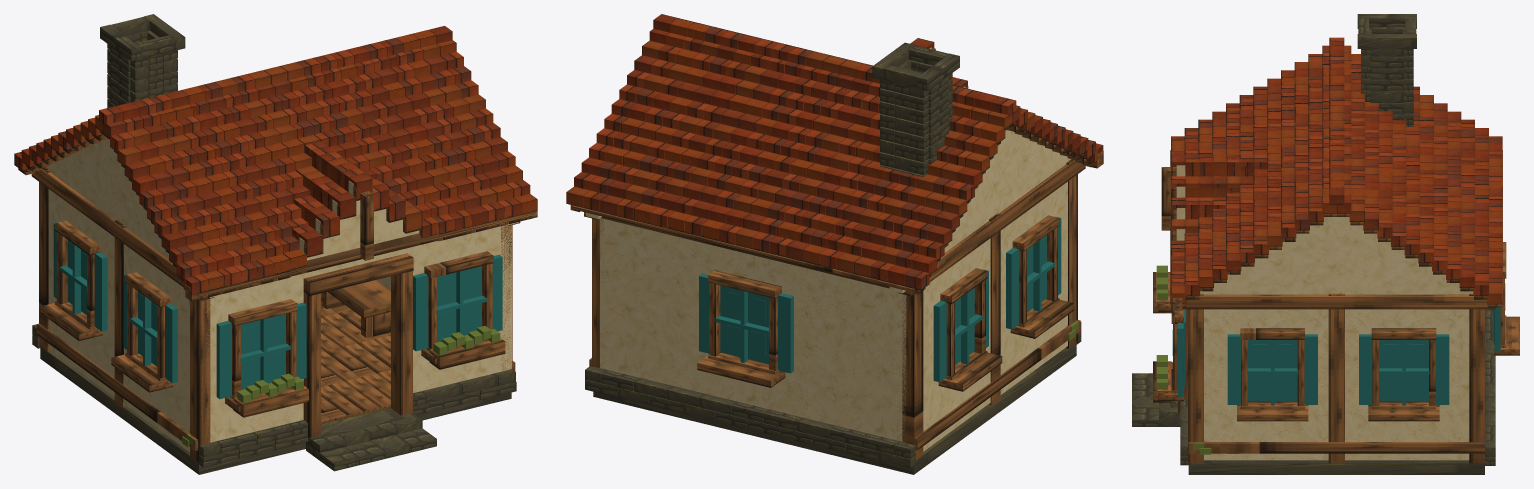
File: SM_HP_Cottage_RoofV2_LOD1.fbx
The picture shows the model from 3 angles, left to right: view 1: azimuth 30°, elevation 25°; view 2: azimuth 150°, elevation 25°; view 3: azimuth 270°, elevation 25°; orthographic projection. The views are drawn at different scales.
Parts seen in each view (by area): view 1: SM_HP_Cottage_RoofV2_LOD1; view 2: SM_HP_Cottage_RoofV2_LOD1; view 3: SM_HP_Cottage_RoofV2_LOD1.
Part boxes in pixels (<box>): SM_HP_Cottage_RoofV2_LOD1: <box>14,14,537,474</box>; SM_HP_Cottage_RoofV2_LOD1: <box>566,14,1103,474</box>; SM_HP_Cottage_RoofV2_LOD1: <box>1132,14,1519,474</box>.
Size of the model in its own units: 5.76 by 5.76 by 5.39.
